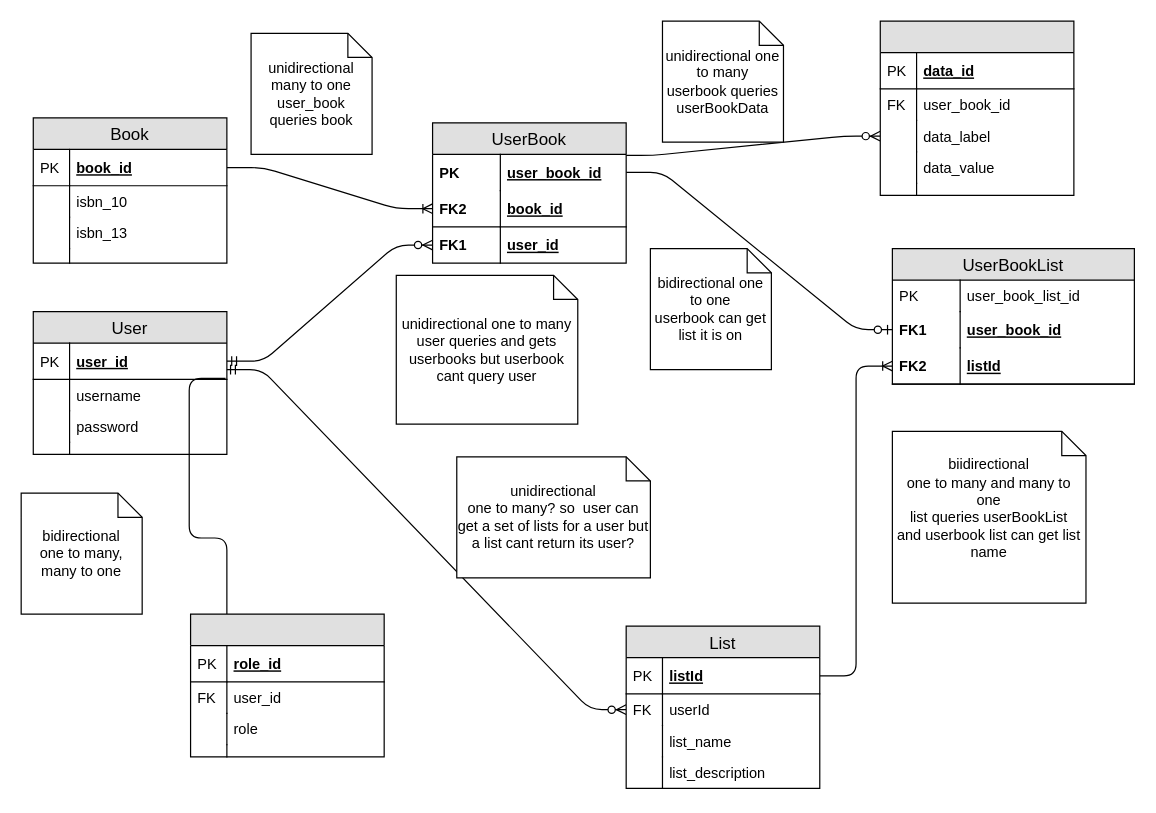
This 1156x813 diagram has some shape labels left out. The box of each missing label's shape, as (x1, y1, x2, y2) in pixels:
UserBookData: (879, 20, 1074, 195)
UserRole: (189, 613, 384, 757)
